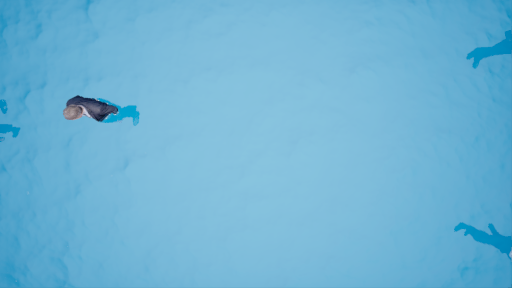person: (59, 83, 147, 136)
